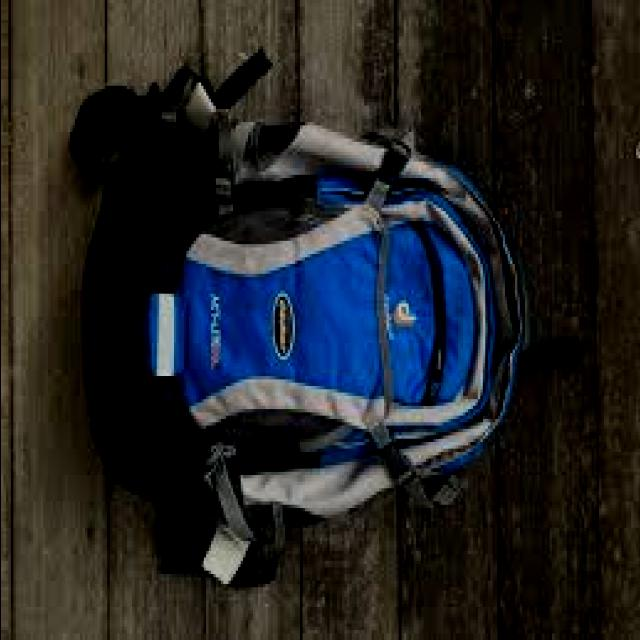backpack: (73, 47, 585, 588)
